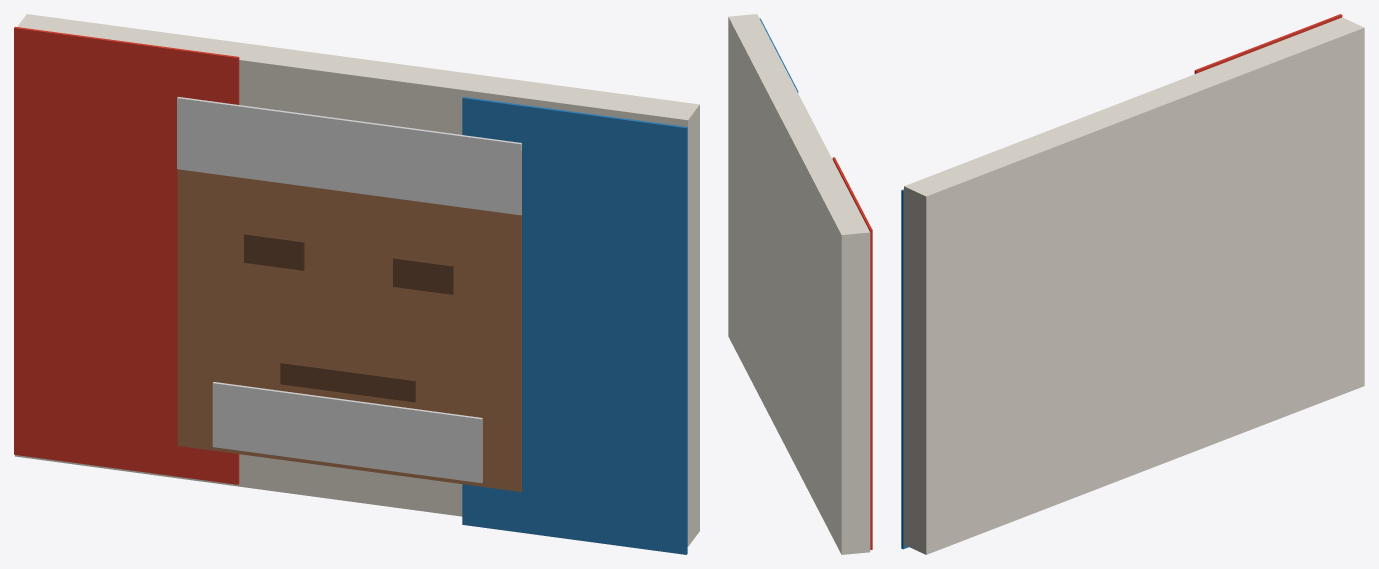
File: sn_hense.glb
3 views of the same model, side by side, from view 1: azimuth 30°, elevation 25°; view 2: azimuth 150°, elevation 25°; view 3: azimuth 270°, elevation 25° (orthographic). The views are drawn at different scales.
Visible parts, largest first — view 1: sn_hense_lod0; view 2: sn_hense_lod0; view 3: sn_hense_lod0.
Part boxes in pixels (left/top/right/bottom): sn_hense_lod0: left=14, top=14, right=699, bottom=554; sn_hense_lod0: left=728, top=14, right=872, bottom=554; sn_hense_lod0: left=901, top=14, right=1364, bottom=554.
Size of what is drawn, in the model's own units: 6.46 by 6.13 by 7.03.
